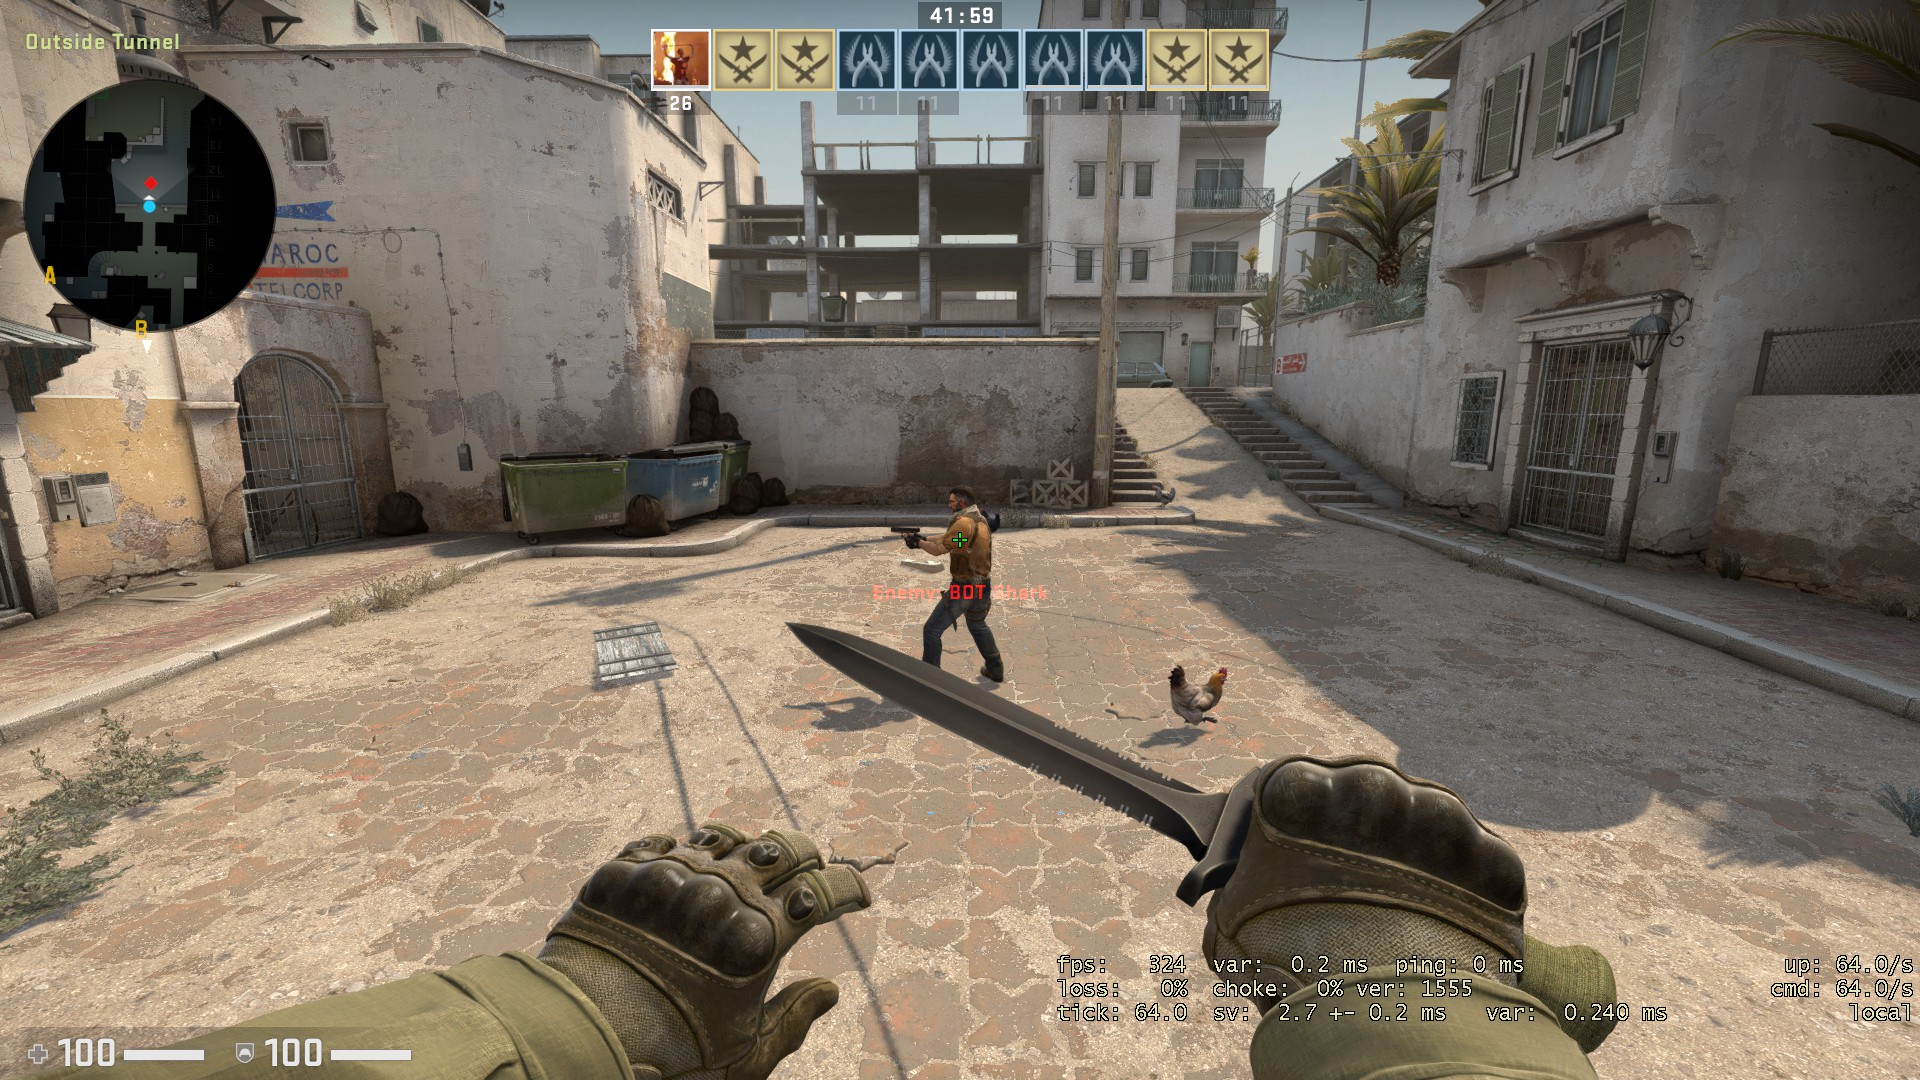player: (888, 484, 1011, 687)
